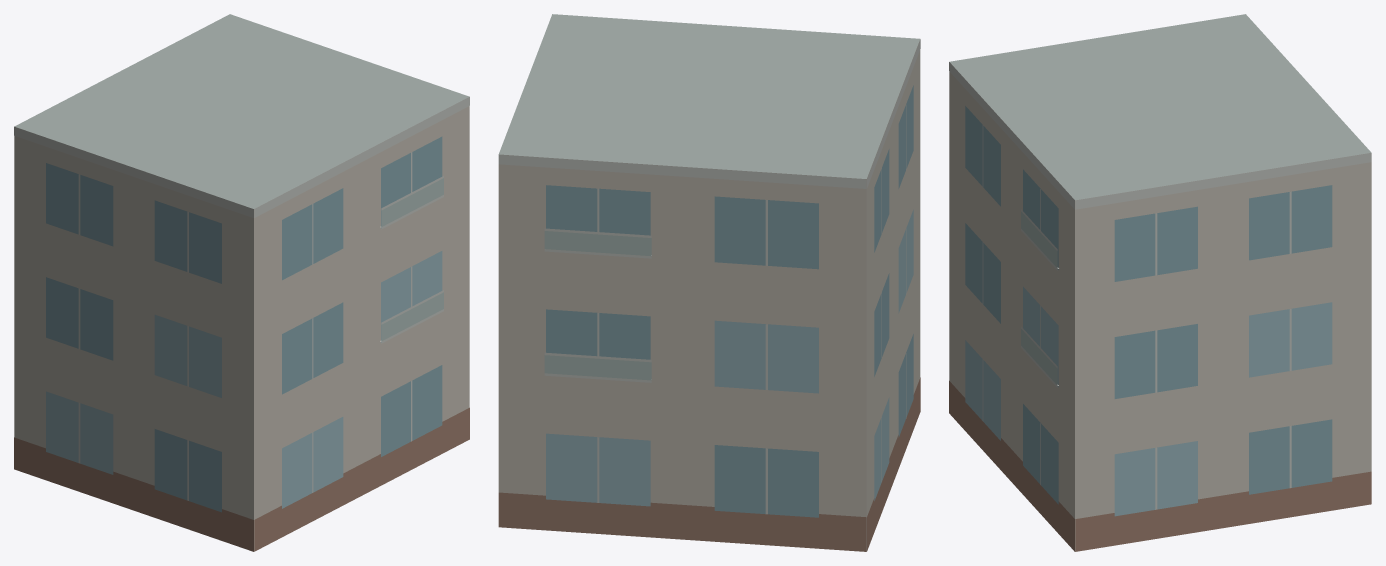
The model's file is survey-upis-32524077.glb.
The picture shows the model from 3 angles, left to right: view 1: azimuth 30°, elevation 25°; view 2: azimuth 150°, elevation 25°; view 3: azimuth 270°, elevation 25°; orthographic projection. The views are drawn at different scales.
Visible parts, largest first — view 1: survey-upis-32524077.tmp; view 2: survey-upis-32524077.tmp; view 3: survey-upis-32524077.tmp.
Boxes of the visible parts, left/top/right/bottom form: survey-upis-32524077.tmp: left=14, top=14, right=469, bottom=551; survey-upis-32524077.tmp: left=498, top=14, right=920, bottom=551; survey-upis-32524077.tmp: left=949, top=14, right=1371, bottom=551.
Bounding box in the file's own units: 10.41 × 9.15 × 9.98.
